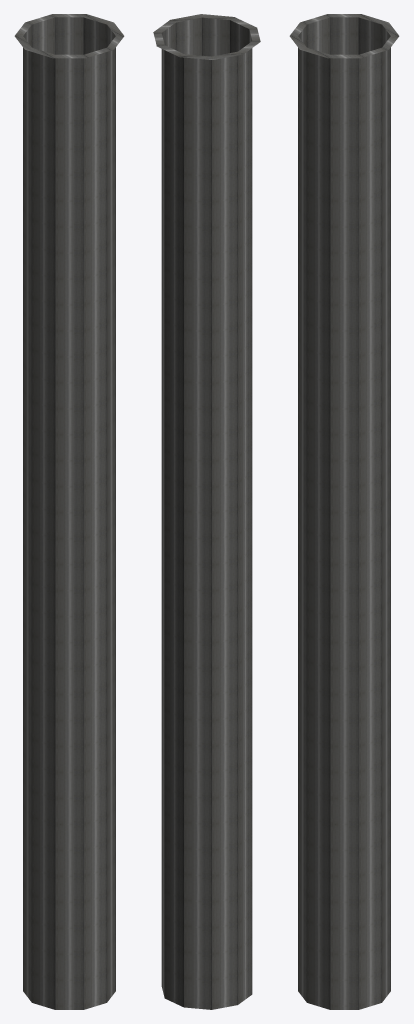
The picture shows the model from 3 angles, left to right: view 1: azimuth 90°, elevation 25°; view 2: azimuth 150°, elevation 25°; view 3: azimuth 270°, elevation 25°; orthographic projection.
Parts seen in each view (by area): view 1: tube1.001; view 2: tube1.001; view 3: tube1.001.
Part boxes in pixels (box(x1,y1,x2,y2)): tube1.001: box(14, 14, 124, 1009); tube1.001: box(153, 14, 260, 1009); tube1.001: box(289, 14, 399, 1009).
Bounding box in the file's own units: 3.73 × 37.55 × 3.92.
1 material, 1 textured.
